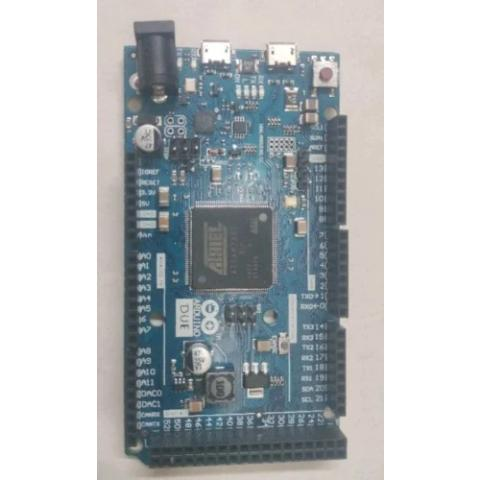Arduino-Due: (109, 14, 357, 474)
